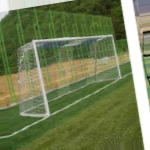goals: (16, 32, 124, 122)
